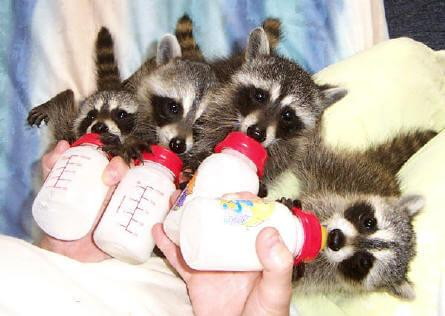raccoon: (292, 132, 438, 305), (201, 26, 350, 174), (25, 25, 142, 148), (140, 34, 238, 157)
